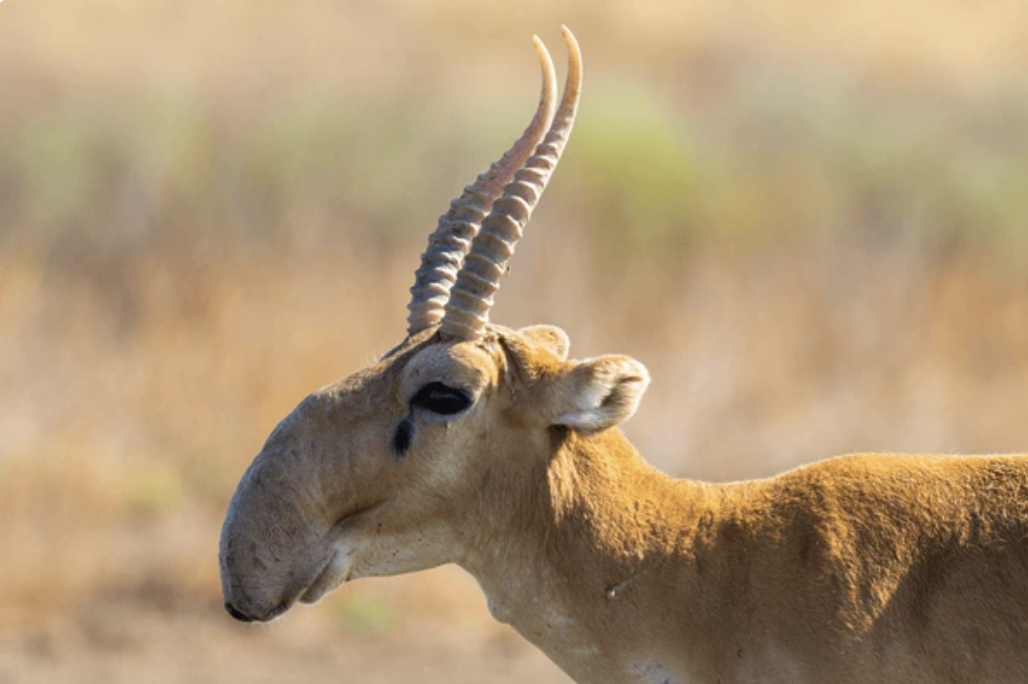saiga: (188, 20, 1024, 684)
